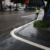others: (10, 19, 50, 50)
